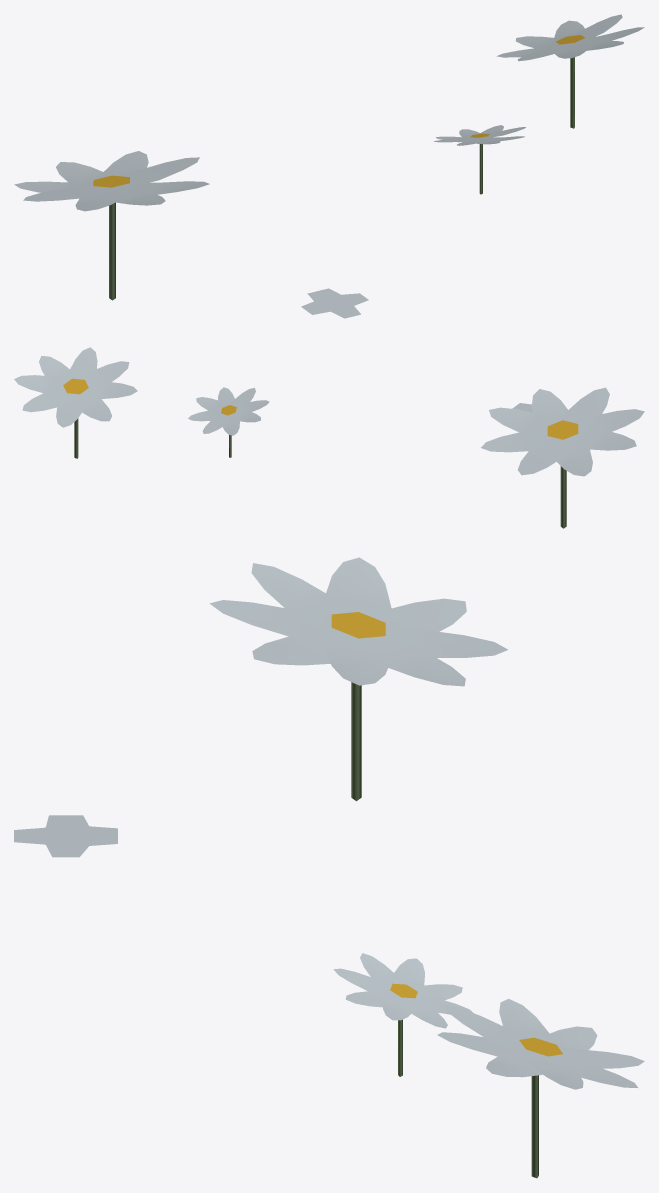
The model's file is P_Fjallsippa_02_LD.fbx.
3 views of the same model, one above another, from view 1: azimuth 30°, elevation 25°; view 2: azimuth 150°, elevation 25°; view 3: azimuth 270°, elevation 25° (orthographic). The views are drawn at different scales.
Visible parts, largest first — view 1: P_Fjallsippa_02; view 2: P_Fjallsippa_02; view 3: P_Fjallsippa_02.
Boxes of the visible parts, <box> form: P_Fjallsippa_02: <box>14,14,644,318</box>; P_Fjallsippa_02: <box>14,347,644,528</box>; P_Fjallsippa_02: <box>14,557,644,1178</box>.
Bounding box in the file's own units: 122 × 22.72 × 66.73.
1 material, 1 textured.
